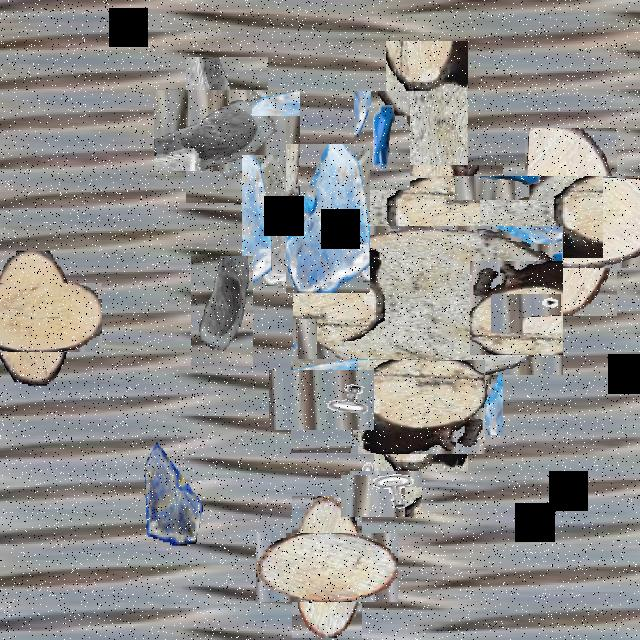glass: (170, 73, 284, 187), (286, 144, 370, 293), (242, 155, 316, 286), (191, 256, 253, 366), (144, 441, 202, 544)
metal: (280, 358, 362, 442), (354, 91, 410, 190), (349, 462, 413, 526), (498, 285, 554, 341)
plastic: (318, 108, 536, 326)
wood: (323, 196, 533, 406), (501, 151, 640, 292), (366, 352, 476, 462), (274, 514, 380, 620), (0, 267, 85, 369)
